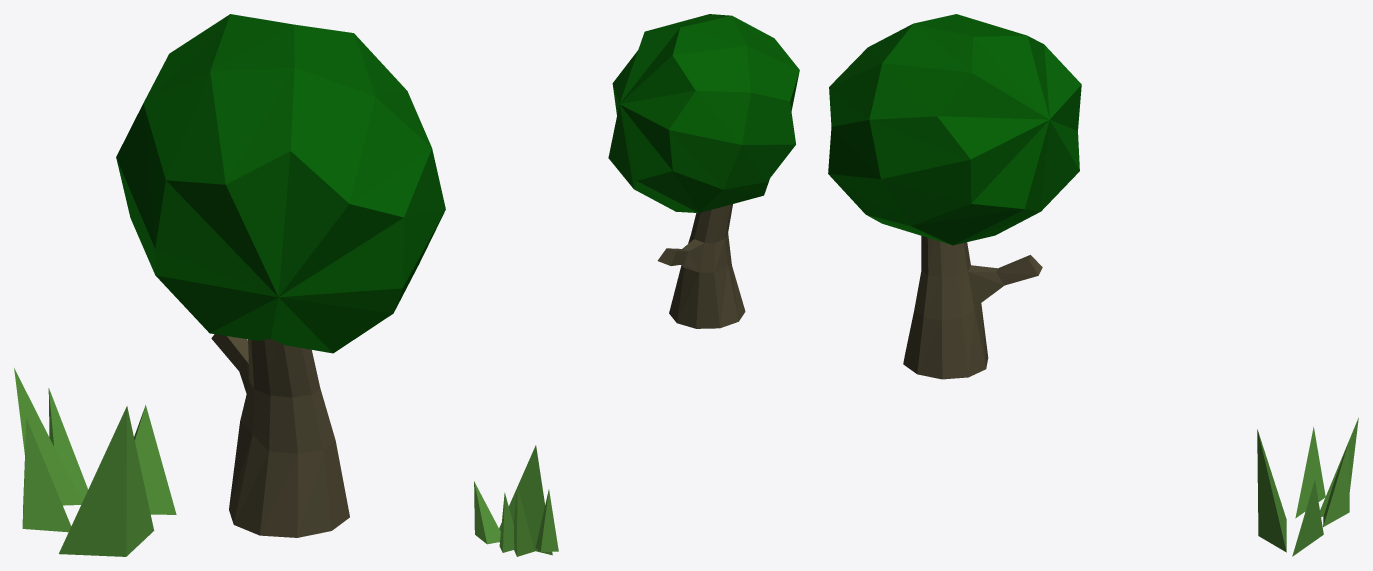
File: grass_selfTexture.fbx
The picture shows the model from 3 angles, left to right: view 1: azimuth 30°, elevation 25°; view 2: azimuth 150°, elevation 25°; view 3: azimuth 270°, elevation 25°; orthographic projection. The views are drawn at different scales.
Visible parts, largest first — view 1: pCylinder2, grass; view 2: pCylinder2, grass; view 3: pCylinder2, grass.
Part boxes in pixels (x1,y1,x2,y2): pCylinder2: (116, 14, 445, 537); grass: (14, 368, 176, 556); pCylinder2: (608, 14, 799, 328); grass: (474, 445, 558, 556); pCylinder2: (828, 14, 1081, 379); grass: (1257, 417, 1358, 556).
Bounding box in the file's own units: 4.05 × 9.71 × 9.58.
